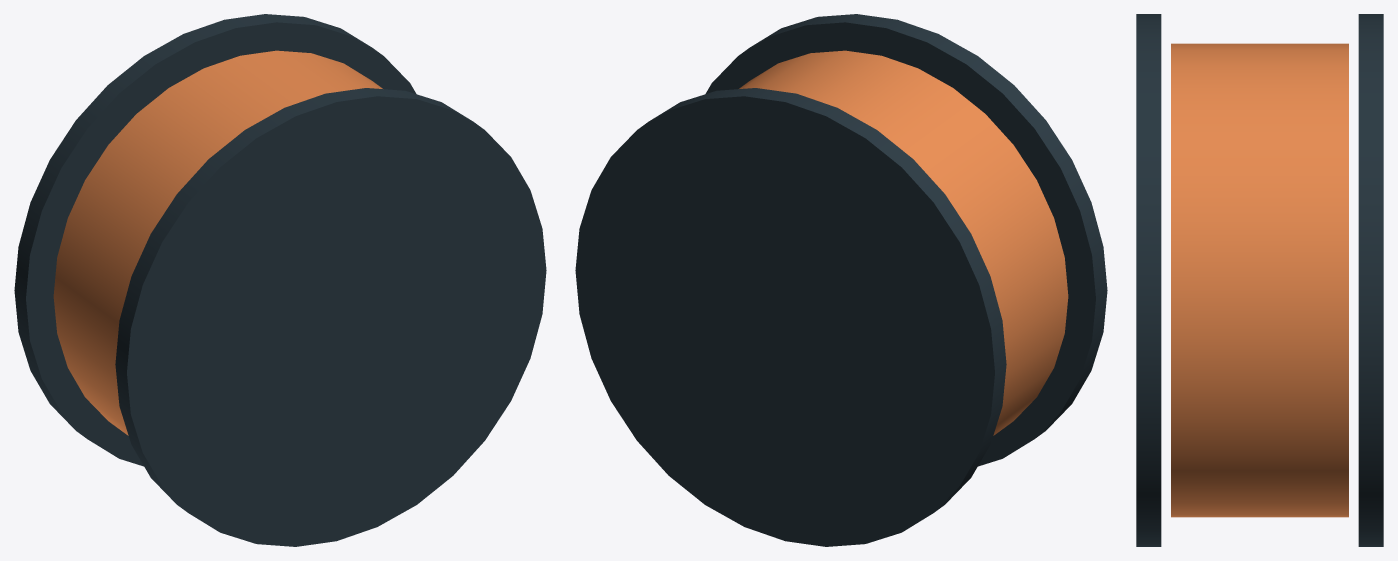
File: shelf-spool.glb
3 views of the same model, side by side, from view 1: azimuth 30°, elevation 25°; view 2: azimuth 150°, elevation 25°; view 3: azimuth 270°, elevation 25° (orthographic). The views are drawn at different scales.
Visible parts, largest first — view 1: shelf-spool; view 2: shelf-spool; view 3: shelf-spool.
Boxes of the visible parts, x1,y1,x2,y2 form: shelf-spool: (14, 14, 546, 546); shelf-spool: (575, 14, 1107, 546); shelf-spool: (1136, 14, 1383, 546).
Size of the model in its own units: 0.36 by 0.36 by 0.167.
